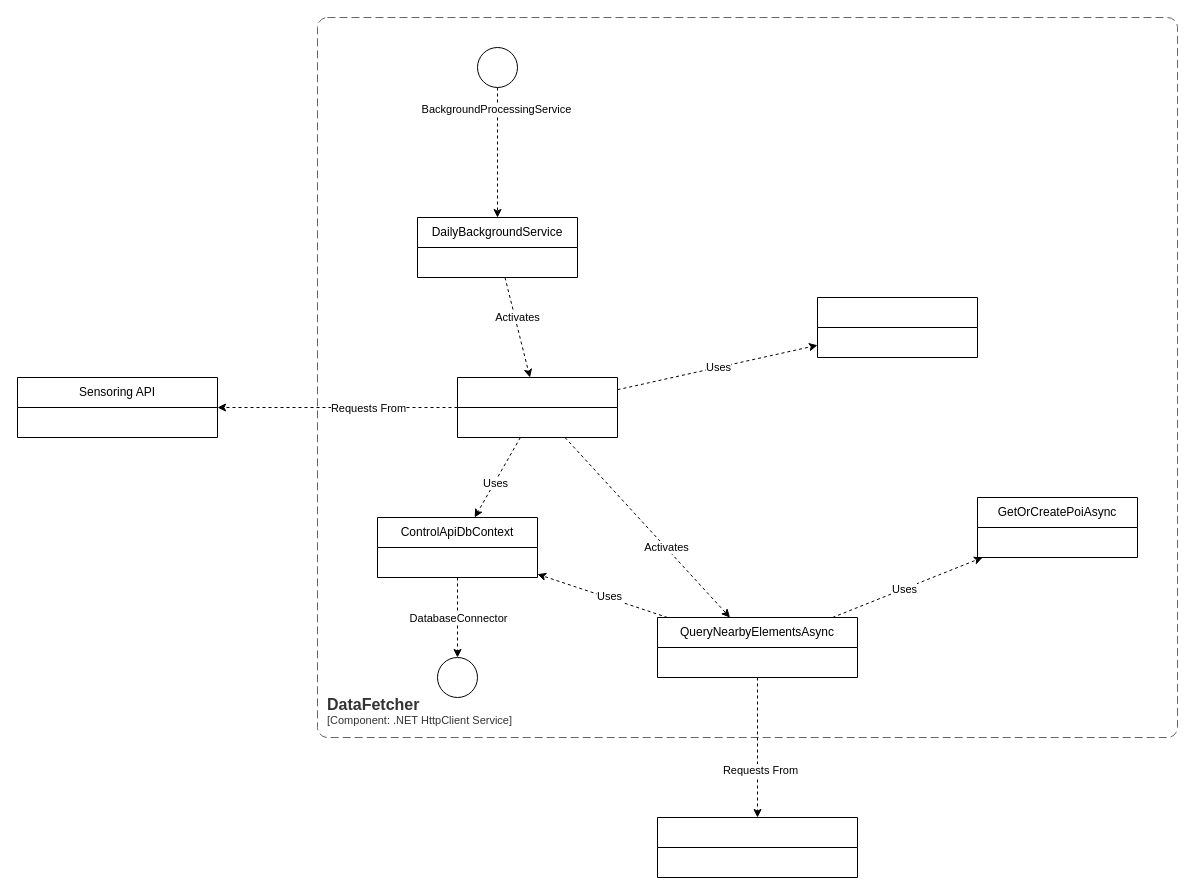
Some shapes in this 1195 by 895 pixel diagram are drawn without their labels. The shapes that lost their labels are listed below. From the top down, each one's centre as x and y in pixels, then its label:
At point (897, 327): "ISensoringDataGrabber".
At point (537, 407): "PullAsync".
At point (757, 847): "OpenStreetMap API".
